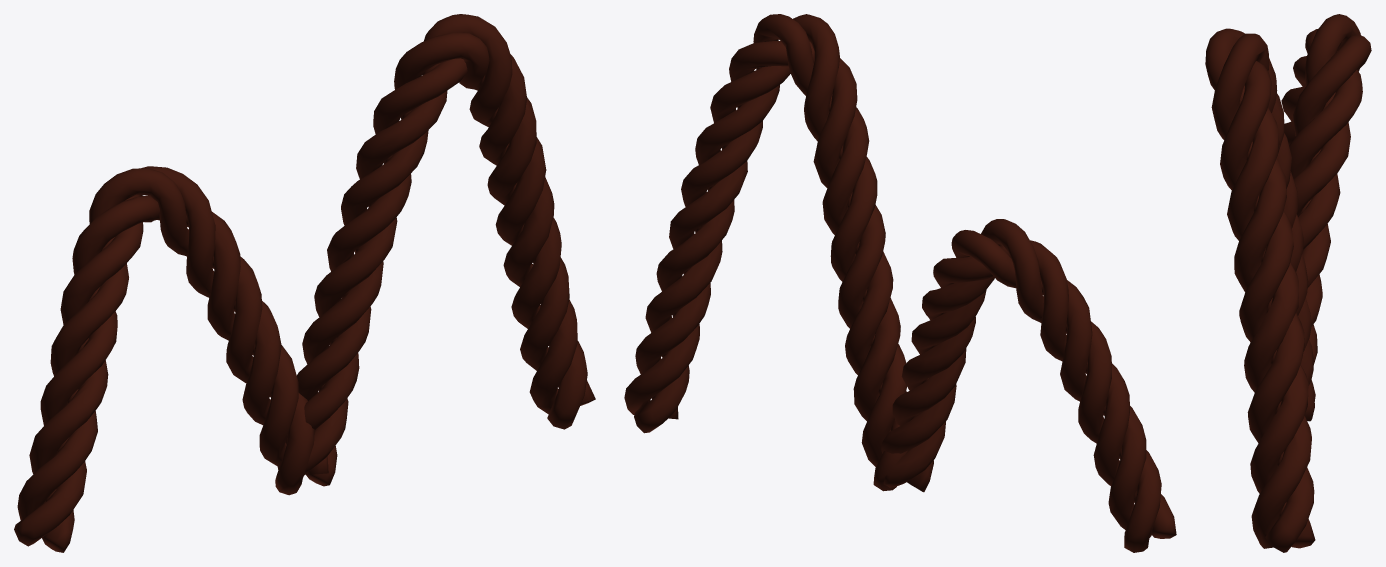
The model's file is licorice-loop.glb.
3 renders of one model, left to right at view 1: azimuth 30°, elevation 25°; view 2: azimuth 150°, elevation 25°; view 3: azimuth 270°, elevation 25°, orthographic. The views are drawn at different scales.
Parts seen in each view (by area): view 1: Licorice loops high game core; view 2: Licorice loops high game core; view 3: Licorice loops high game core.
Boxes of the visible parts, bbox=[...] form: Licorice loops high game core: bbox=[14, 14, 595, 552]; Licorice loops high game core: bbox=[624, 14, 1176, 552]; Licorice loops high game core: bbox=[1205, 14, 1371, 552].
Size of the model in its own units: 2.16 by 1.62 by 0.5316.
